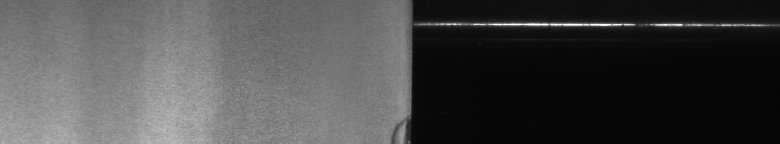hb: (385, 116, 400, 136)
